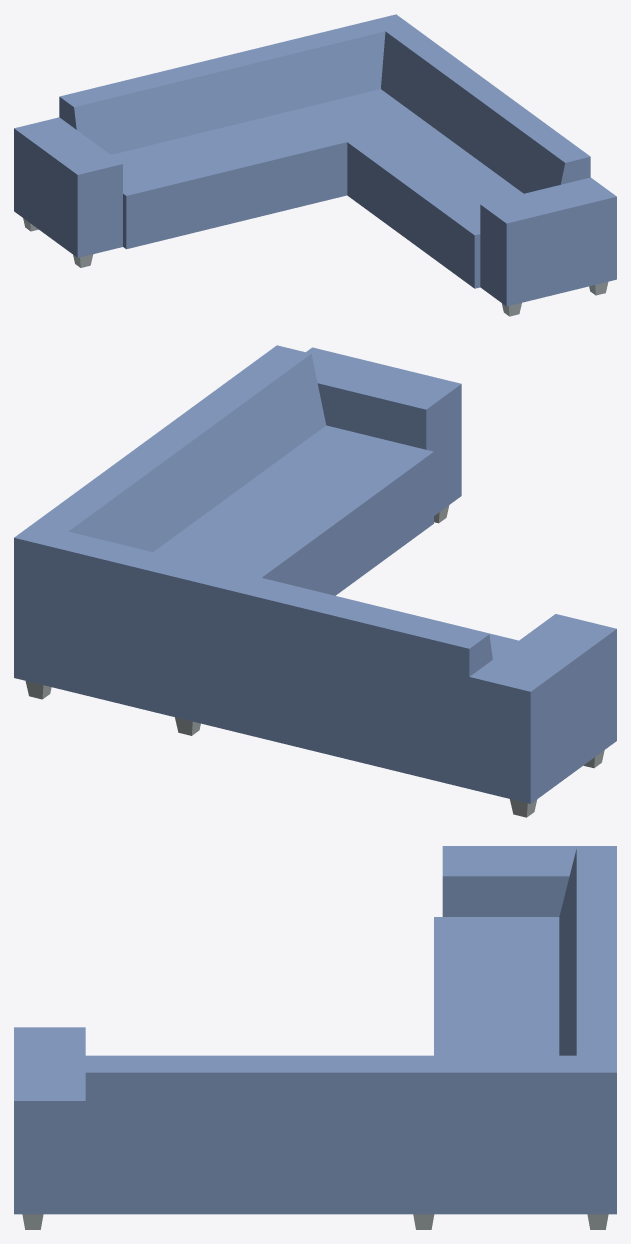
File: loungeDesignSofaCorner.glb
3 views of the same model, one above another, from view 1: azimuth 30°, elevation 25°; view 2: azimuth 150°, elevation 25°; view 3: azimuth 270°, elevation 25° (orthographic). The views are drawn at different scales.
Visible parts, largest first — view 1: loungeDesignSofaCorner; view 2: loungeDesignSofaCorner; view 3: loungeDesignSofaCorner.
Part boxes in pixels (x1,y1,x2,y2): loungeDesignSofaCorner: [14, 14, 616, 316]; loungeDesignSofaCorner: [14, 345, 616, 817]; loungeDesignSofaCorner: [14, 846, 616, 1229].
Size of the model in its own units: 1.35 by 0.4 by 1.35.
